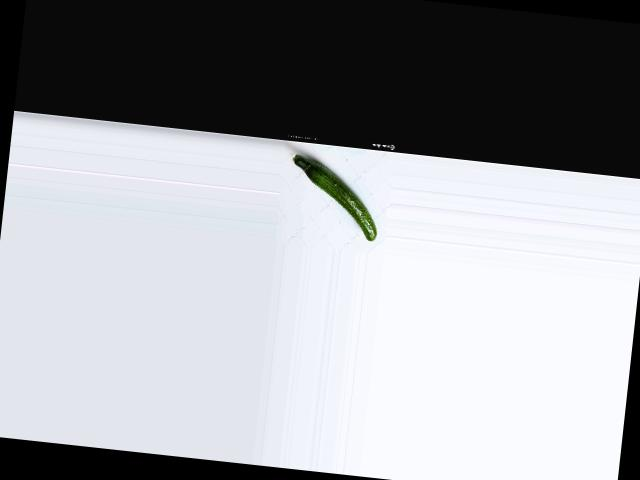cucumber: (284, 154, 383, 241)
